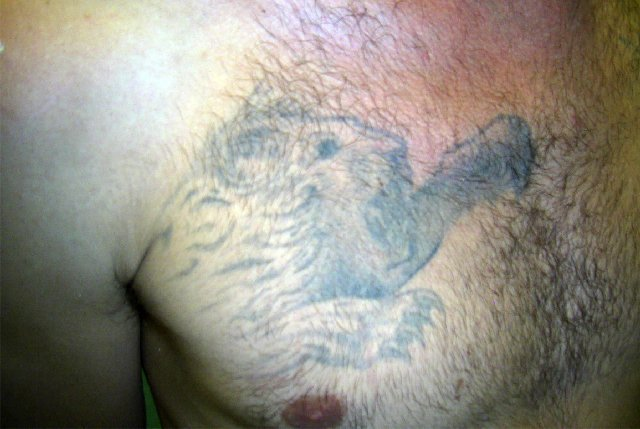tatu5_tigr: (138, 101, 538, 373)
